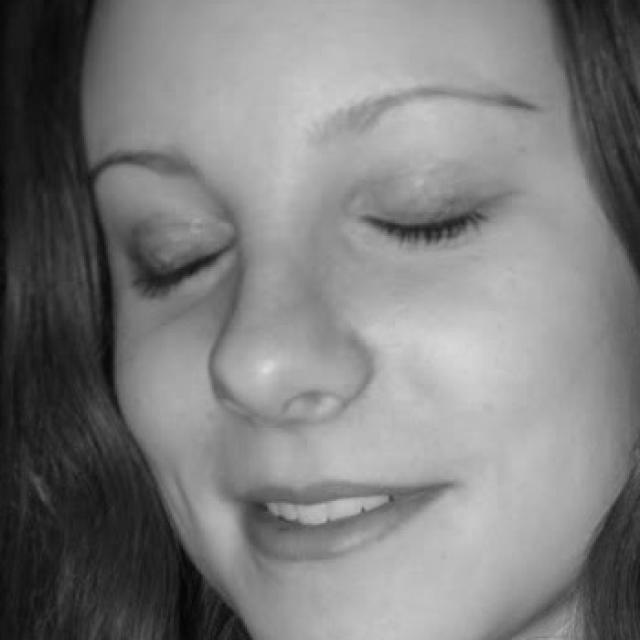real: (88, 1, 640, 640), (114, 178, 504, 304)
